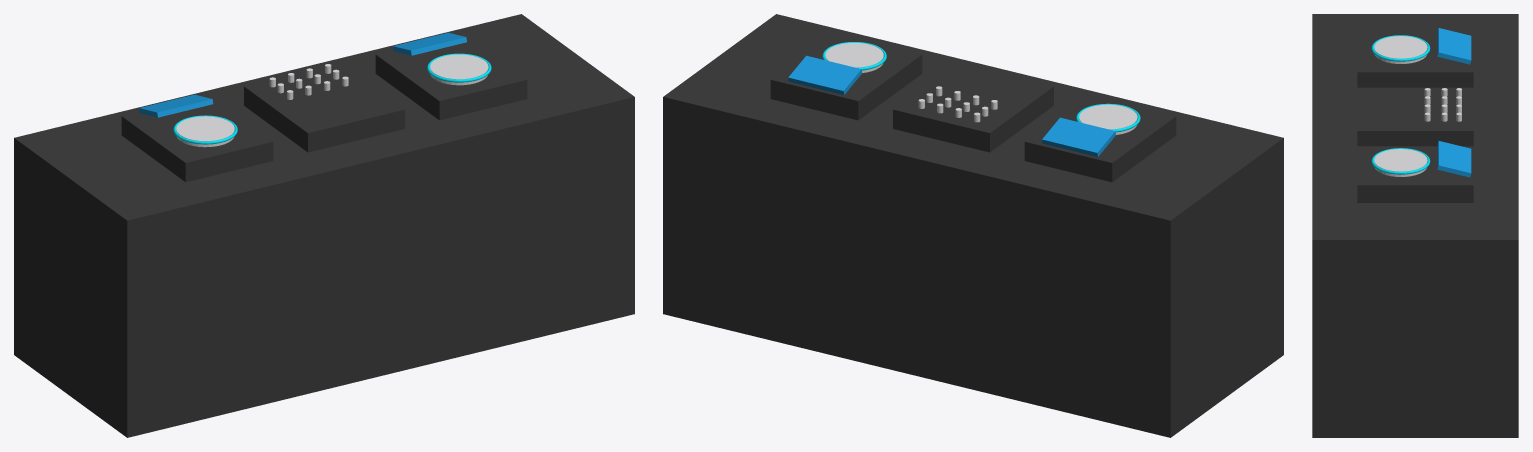
File: party_dj_console.glb
3 views of the same model, side by side, from view 1: azimuth 30°, elevation 25°; view 2: azimuth 150°, elevation 25°; view 3: azimuth 270°, elevation 25° (orthographic). The views are drawn at different scales.
Visible parts, largest first — view 1: Party_DJ_Console; view 2: Party_DJ_Console; view 3: Party_DJ_Console.
Part boxes in pixels (<box>): Party_DJ_Console: <box>14,14,634,437</box>; Party_DJ_Console: <box>663,14,1283,437</box>; Party_DJ_Console: <box>1312,14,1518,437</box>.
Bounding box in the file's own units: 2.2 × 1.04 × 0.85.
